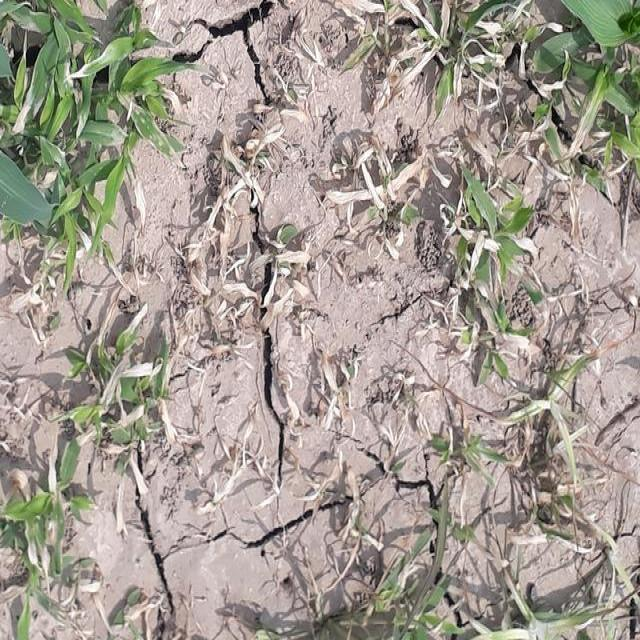weed: (0, 302, 179, 640), (0, 0, 174, 269), (510, 0, 640, 201), (351, 551, 610, 640), (384, 0, 524, 123), (450, 161, 536, 350), (516, 356, 600, 496), (340, 136, 431, 249), (423, 407, 495, 485), (261, 232, 311, 313), (313, 356, 360, 407), (382, 367, 424, 423)
